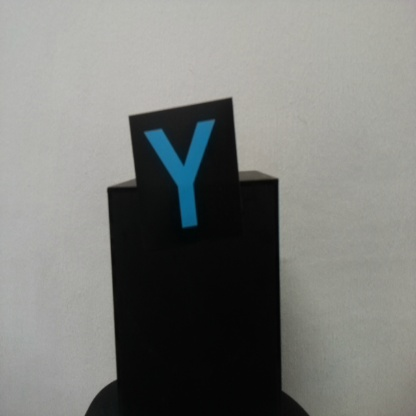id_14: (129, 115, 239, 240)
